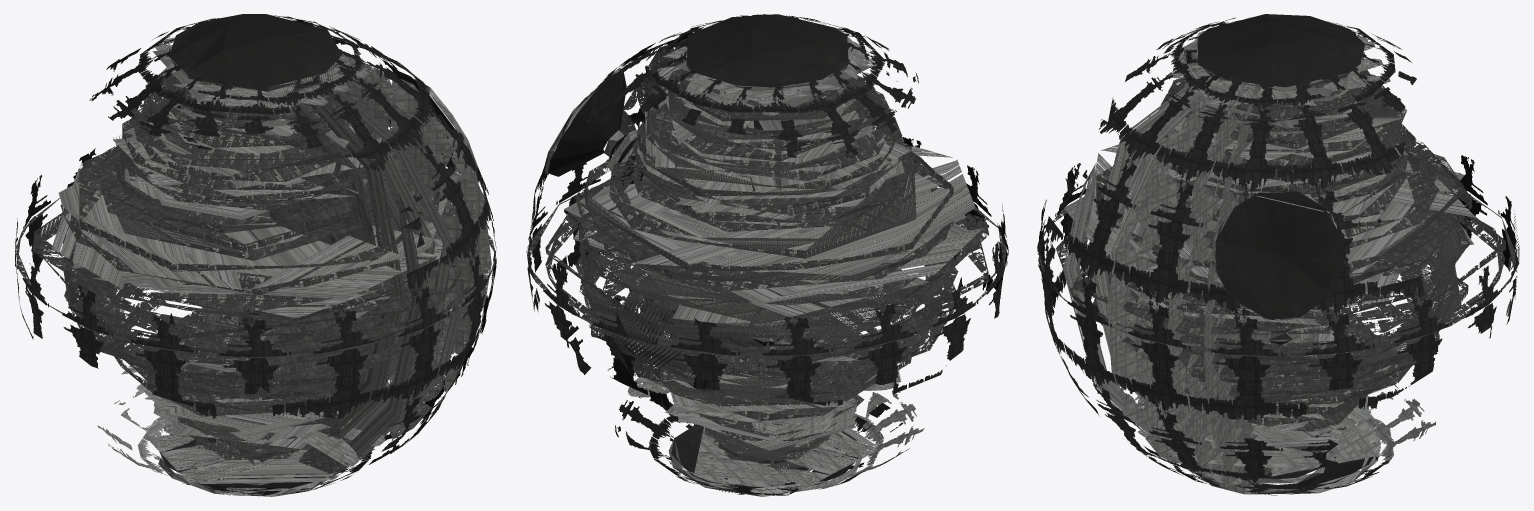
3 renders of one model, left to right at view 1: azimuth 30°, elevation 25°; view 2: azimuth 150°, elevation 25°; view 3: azimuth 270°, elevation 25°, orthographic.
Parts seen in each view (by area): view 1: Object12291_05 - Defaultasdasd_0, Object12290_03 - Defaultasdsadasdassda_0, Object12289_06 - Defaultasdsdaasdassadasdassd_0, Object12294_06 - Default_0, Object12287_03 - Defaultasdsad_0, Object12296_06 - Defaultasdsda_0, Object12295_06 - Defaultasdsdaasdassad_0, Object12293_03 - Defaultasdsadasd_0, Object12297_06 - Defaultasdsdaasdassadasd_0; view 2: Object12291_05 - Defaultasdasd_0, Object12290_03 - Defaultasdsadasdassda_0, Object12287_03 - Defaultasdsad_0, Object12294_06 - Default_0, Object12296_06 - Defaultasdsda_0, Object12295_06 - Defaultasdsdaasdassad_0, Object12293_03 - Defaultasdsadasd_0, Object12289_06 - Defaultasdsdaasdassadasdassd_0, Object12297_06 - Defaultasdsdaasdassadasd_0; view 3: Object12294_06 - Default_0, Object12291_05 - Defaultasdasd_0, Object12289_06 - Defaultasdsdaasdassadasdassd_0, Object12287_03 - Defaultasdsad_0, Object12290_03 - Defaultasdsadasdassda_0, Object12295_06 - Defaultasdsdaasdassad_0, Object12293_03 - Defaultasdsadasd_0, Object12296_06 - Defaultasdsda_0, Object12297_06 - Defaultasdsdaasdassadasd_0.
Boxes of the visible parts, <box> form: Object12291_05 - Defaultasdasd_0: <box>16,73,495,478</box>; Object12290_03 - Defaultasdsadasdassda_0: <box>51,37,455,484</box>; Object12289_06 - Defaultasdsdaasdassadasdassd_0: <box>179,54,491,474</box>; Object12294_06 - Default_0: <box>15,21,496,495</box>; Object12287_03 - Defaultasdsad_0: <box>159,14,462,490</box>; Object12296_06 - Defaultasdsda_0: <box>89,15,354,495</box>; Object12295_06 - Defaultasdsdaasdassad_0: <box>15,18,496,495</box>; Object12293_03 - Defaultasdsadasd_0: <box>158,46,477,496</box>; Object12297_06 - Defaultasdsdaasdassadasd_0: <box>97,15,351,495</box>; Object12291_05 - Defaultasdasd_0: <box>528,69,1006,474</box>; Object12290_03 - Defaultasdsadasdassda_0: <box>564,29,982,487</box>; Object12287_03 - Defaultasdsad_0: <box>548,14,858,490</box>; Object12294_06 - Default_0: <box>526,20,1008,406</box>; Object12296_06 - Defaultasdsda_0: <box>609,15,918,495</box>; Object12295_06 - Defaultasdsdaasdassad_0: <box>528,14,1008,494</box>; Object12293_03 - Defaultasdsadasd_0: <box>544,30,861,496</box>; Object12289_06 - Defaultasdsdaasdassadasdassd_0: <box>611,38,802,466</box>; Object12297_06 - Defaultasdsdaasdassadasd_0: <box>667,386,924,494</box>; Object12294_06 - Default_0: <box>1037,17,1519,495</box>; Object12291_05 - Defaultasdasd_0: <box>1039,69,1517,474</box>; Object12289_06 - Defaultasdsdaasdassadasdassd_0: <box>1063,79,1338,486</box>; Object12287_03 - Defaultasdsad_0: <box>1197,14,1373,489</box>; Object12290_03 - Defaultasdsadasdassda_0: <box>1064,22,1475,484</box>; Object12295_06 - Defaultasdsdaasdassad_0: <box>1037,18,1516,488</box>; Object12293_03 - Defaultasdsadasd_0: <box>1193,56,1376,494</box>; Object12296_06 - Defaultasdsda_0: <box>1163,21,1516,324</box>; Object12297_06 - Defaultasdsdaasdassadasd_0: <box>1134,17,1511,485</box>.
Size of the model in its own units: 746 by 743 by 744.
Materials: 9 (9 with a texture image).
